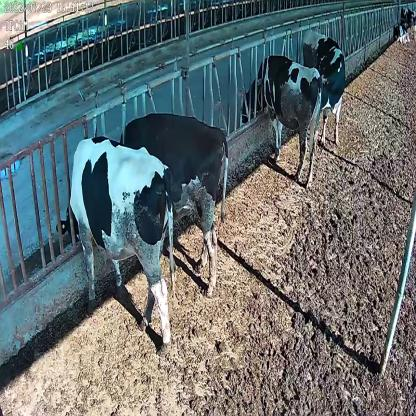cow: (56, 135, 175, 349), (119, 110, 229, 298), (240, 54, 322, 187), (302, 27, 346, 150)
